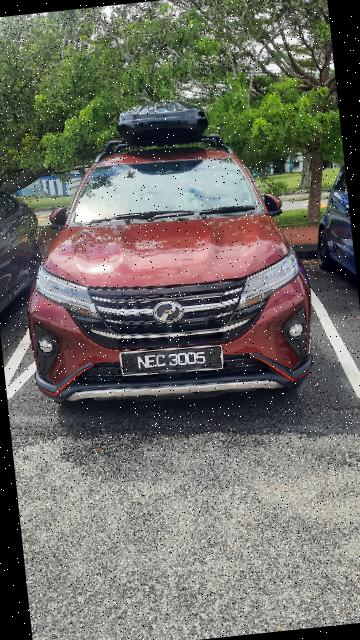License_Plate: (116, 340, 229, 387)
car: (1, 70, 335, 436)
